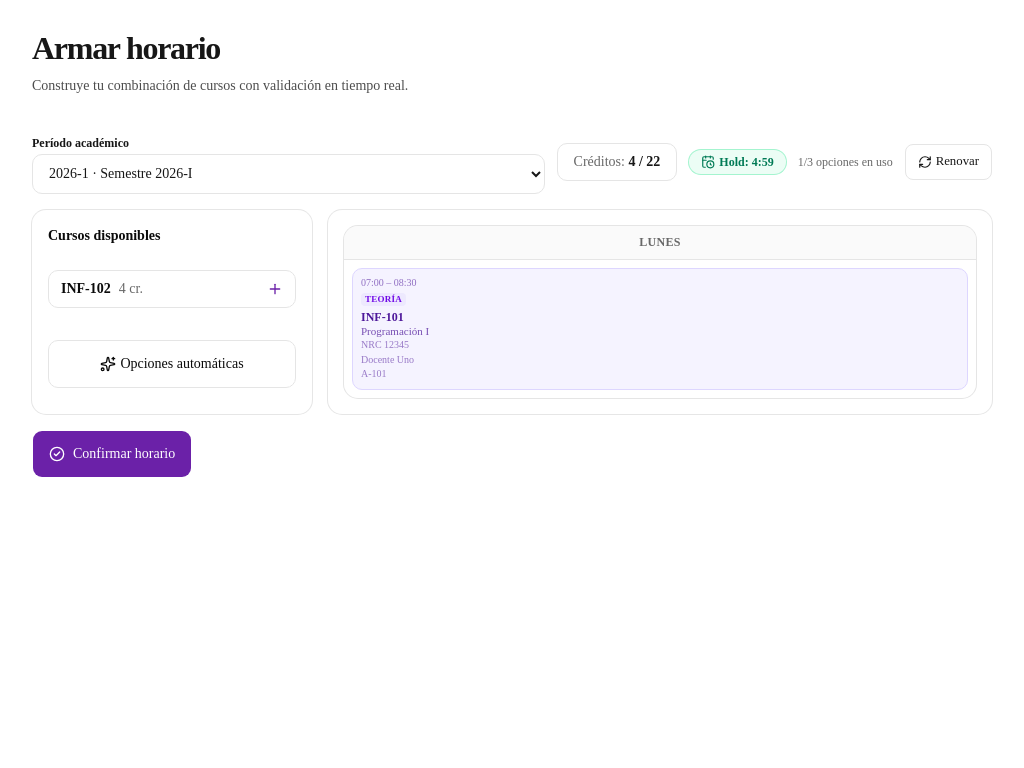
Test: StudentScheduleBuilderScreen › abre el diálogo para agregar un curso disponible
Click the text "INF-102". click: (86, 288)
box: [61,281,111,296]
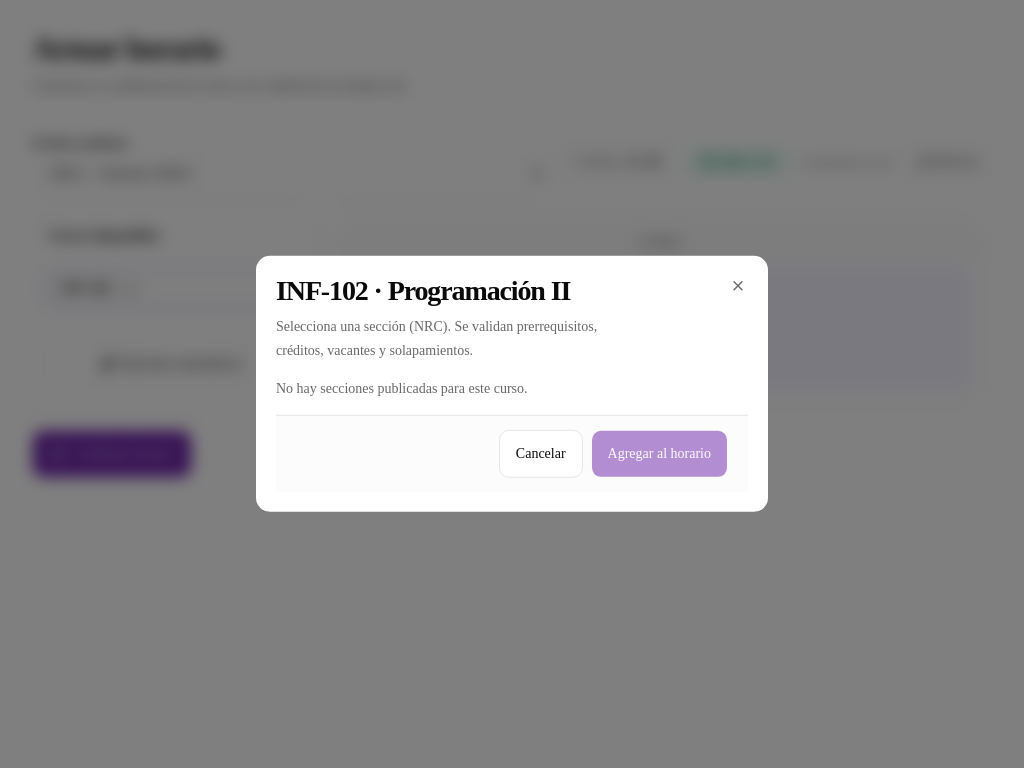
Expected: the heading "INF-102 · Programación II" is shown, [276,275,570,306]
